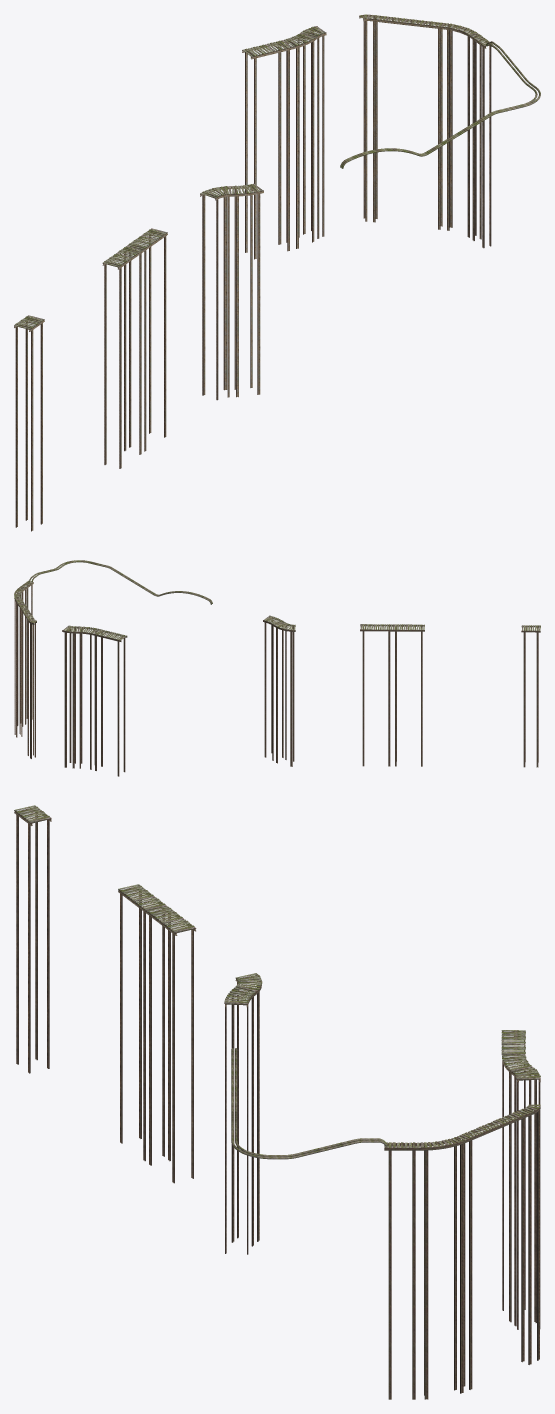
3 views of the same model, one above another, from view 1: azimuth 30°, elevation 25°; view 2: azimuth 150°, elevation 25°; view 3: azimuth 270°, elevation 25° (orthographic). The views are drawn at different scales.
Visible parts, largest first — view 1: RAMP, RAMP.012, Ramp, RAMP.009, Ramp.005, RAMP.001, RAMP.002, Ramp.001, pipe, Ramp.004; view 2: Ramp, RAMP, RAMP.012, Ramp.001, RAMP.002, Ramp.005, RAMP.009, RAMP.001, pipe, Ramp.004; view 3: RAMP.012, Ramp.005, RAMP, RAMP.009, RAMP.002, Ramp, Ramp.001, RAMP.001, pipe, Ramp.004.
Part boxes in pixels (x1,y1,x2,y2): RAMP: (200, 183, 263, 400); RAMP.012: (102, 228, 167, 468); Ramp: (242, 33, 316, 259); RAMP.009: (14, 315, 44, 531); Ramp.005: (369, 15, 445, 229); RAMP.001: (471, 34, 492, 248); RAMP.002: (444, 23, 478, 237); Ramp.001: (300, 26, 326, 238); pipe: (340, 41, 540, 168); Ramp.004: (359, 14, 371, 221); Ramp: (77, 626, 127, 776); RAMP: (263, 615, 295, 766); RAMP.012: (360, 624, 424, 766); Ramp.001: (62, 625, 77, 768); RAMP.002: (14, 588, 24, 734); Ramp.005: (15, 598, 34, 755); RAMP.009: (521, 625, 540, 767); RAMP.001: (19, 580, 33, 724); pipe: (29, 560, 212, 604); Ramp.004: (29, 620, 36, 758); RAMP.012: (118, 884, 196, 1183); Ramp.005: (459, 1107, 534, 1389); RAMP: (224, 973, 262, 1254); RAMP.009: (14, 805, 51, 1073); RAMP.002: (420, 1136, 466, 1399); Ramp: (501, 1030, 532, 1322); Ramp.001: (513, 1067, 540, 1329); RAMP.001: (384, 1142, 419, 1399); pipe: (231, 1048, 387, 1159); Ramp.004: (526, 1104, 540, 1360).
Bounding box in the file's own units: 7440 × 2698 × 4411.
